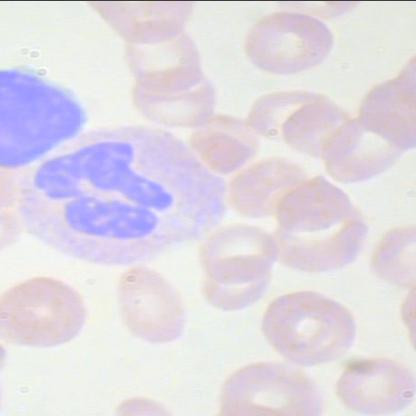RBC: (103, 262, 200, 345), (116, 15, 210, 96), (1, 268, 90, 352), (244, 7, 341, 79), (275, 96, 369, 166), (271, 296, 360, 368), (132, 58, 220, 130), (329, 352, 415, 415), (202, 222, 288, 284), (201, 252, 277, 312)
WBC: (14, 112, 233, 264), (1, 59, 90, 173)
